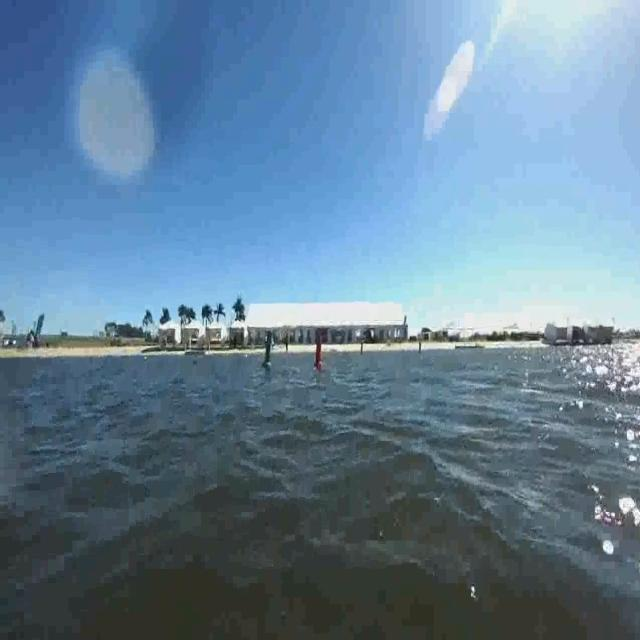green-column-buoy: (264, 336, 276, 368)
red-column-buoy: (314, 334, 326, 369)
